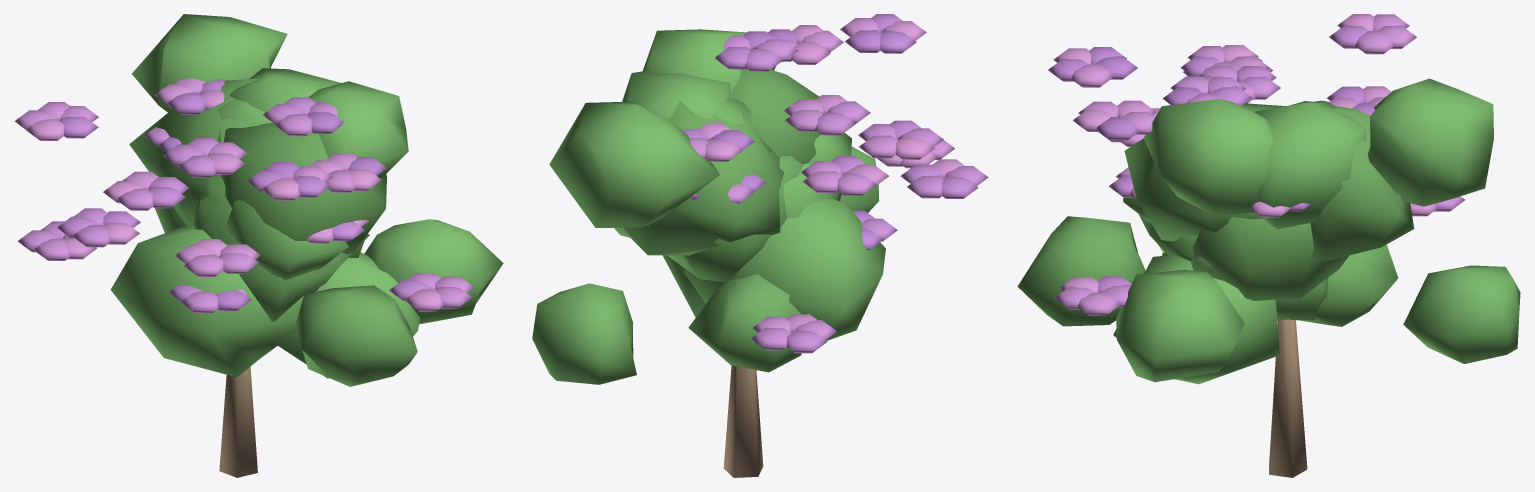
The model's file is blossom_2.glb.
3 renders of one model, left to right at view 1: azimuth 30°, elevation 25°; view 2: azimuth 150°, elevation 25°; view 3: azimuth 270°, elevation 25°, orthographic. The views are drawn at different scales.
Visible parts, largest first — view 1: blossom; view 2: blossom; view 3: blossom.
Part boxes in pixels (<box>): blossom: <box>14,14,503,477</box>; blossom: <box>532,14,988,477</box>; blossom: <box>1017,14,1520,477</box>.
Size of the model in its own units: 0.6355 by 0.5875 by 0.6623.
